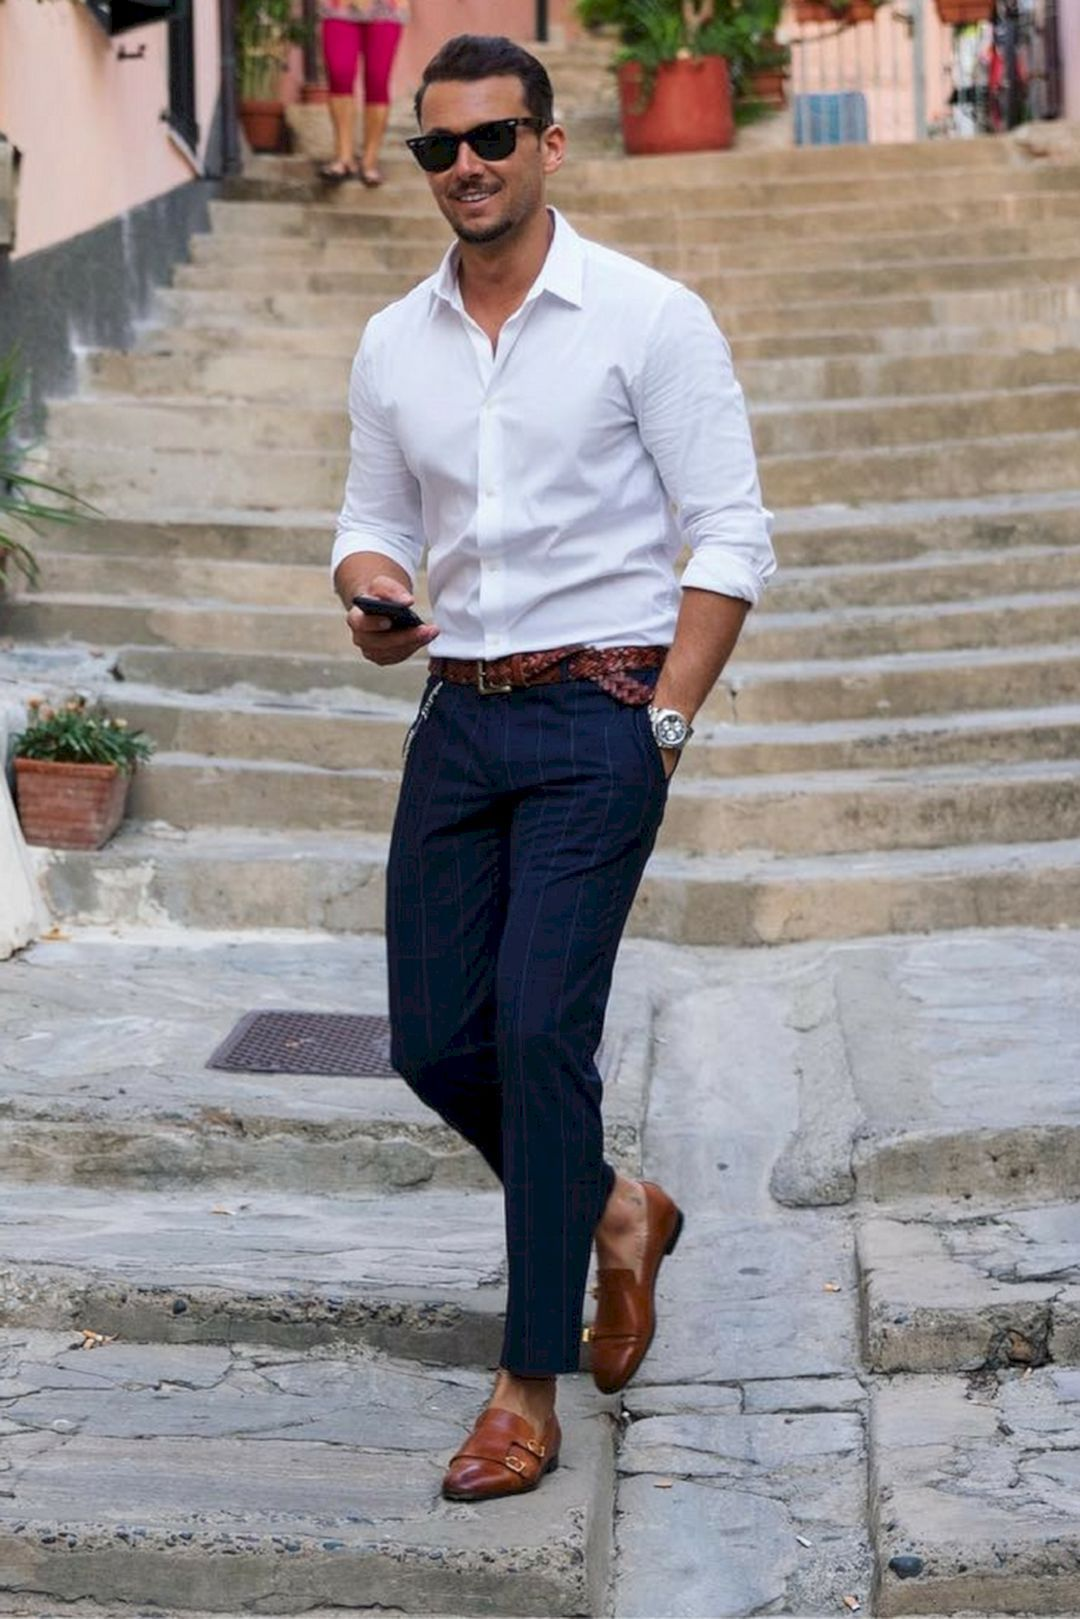NOTSAFE: (372, 25, 676, 740)
